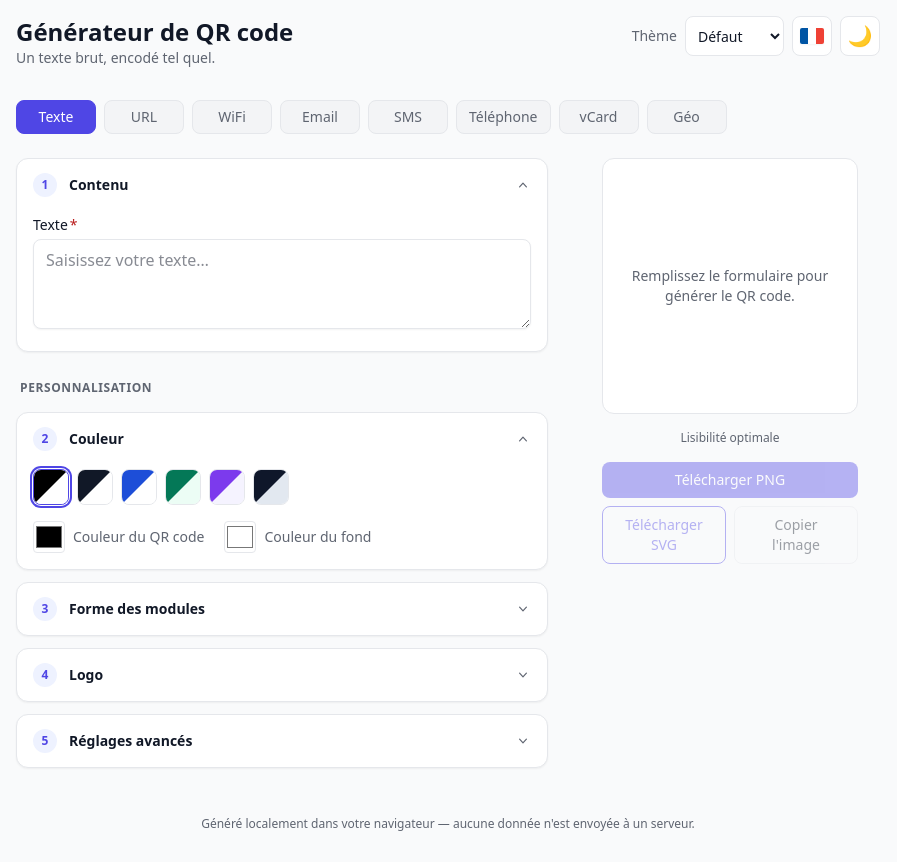
Test: App › change de type quand on clique sur un autre onglet
The image size is (897, 862).
Click the radio button labelled "WiFi" at [232, 117], box [192,100,272,134]
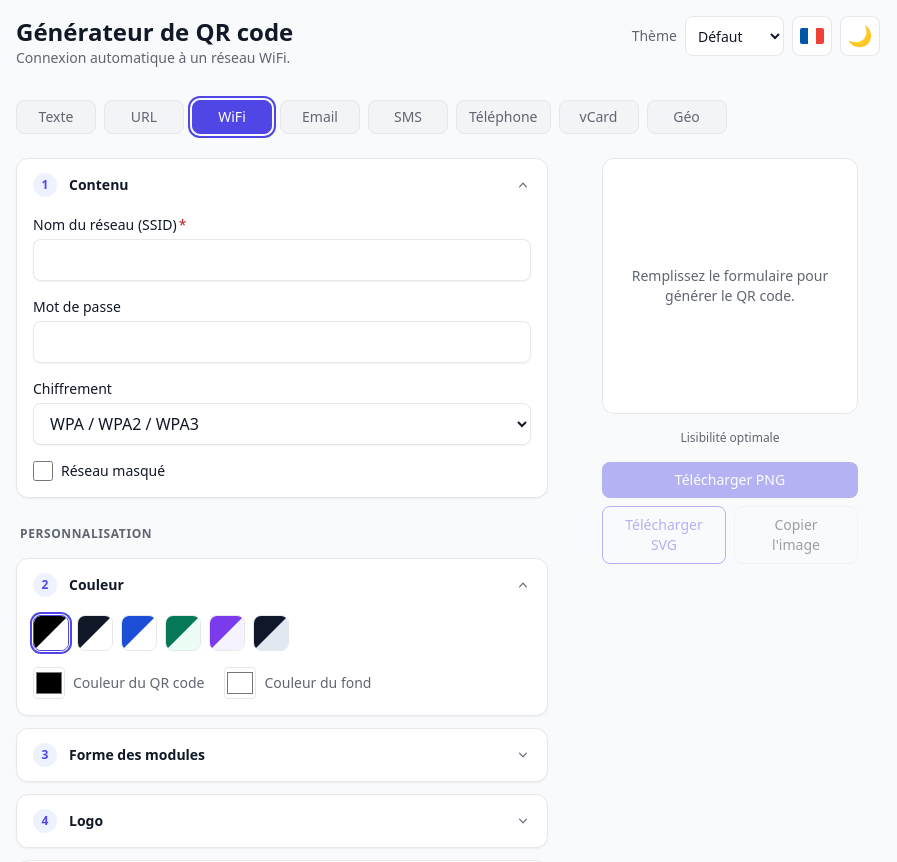
Expected: the field labelled "Nom du réseau (SSID)*" is shown, [33,239,531,281]
